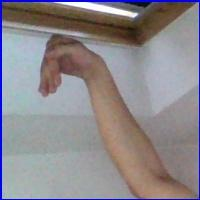del: (36, 33, 107, 105)
